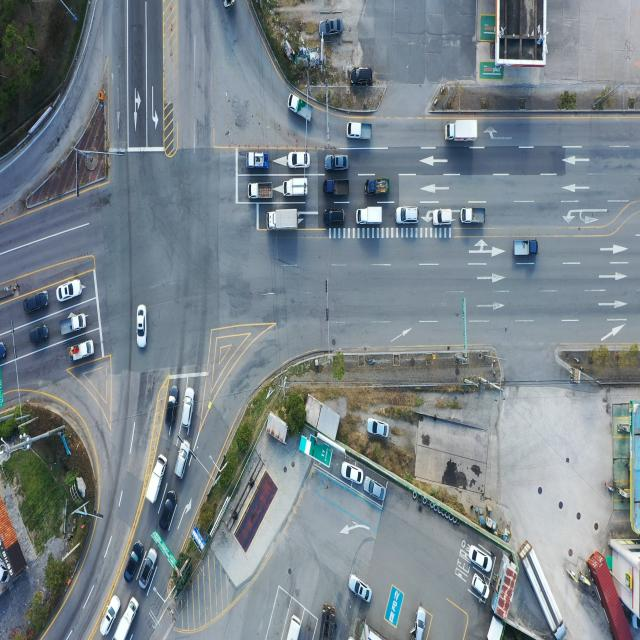car: (101, 595, 121, 635), (139, 548, 158, 590), (126, 542, 144, 583), (160, 495, 178, 533), (164, 386, 178, 433), (175, 439, 191, 480), (57, 279, 83, 304), (349, 575, 371, 604), (365, 478, 387, 504), (26, 292, 50, 315), (348, 66, 374, 86), (471, 550, 492, 574), (473, 574, 491, 602), (413, 606, 428, 639), (182, 388, 194, 429), (342, 462, 364, 484), (137, 306, 148, 350), (319, 19, 343, 39), (366, 418, 388, 439), (287, 153, 310, 171), (325, 156, 349, 173), (327, 209, 348, 228), (396, 207, 418, 225), (30, 326, 50, 344), (431, 209, 452, 226), (0, 343, 7, 362)
medium_truck: (521, 540, 567, 638), (266, 206, 300, 231), (446, 118, 480, 143), (321, 605, 337, 640)
small_bus: (283, 615, 302, 640)
small_truck: (146, 454, 167, 506), (117, 596, 140, 638), (288, 93, 314, 124), (59, 313, 86, 337), (71, 340, 96, 363), (357, 206, 384, 227), (347, 122, 373, 143), (282, 178, 308, 198), (247, 180, 273, 200), (247, 152, 272, 172), (327, 181, 352, 200), (514, 239, 539, 258), (460, 207, 485, 225), (364, 178, 388, 196)
